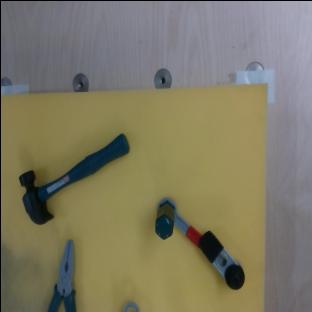non_pass: (142, 194, 256, 296)
pass: (122, 301, 139, 312)
